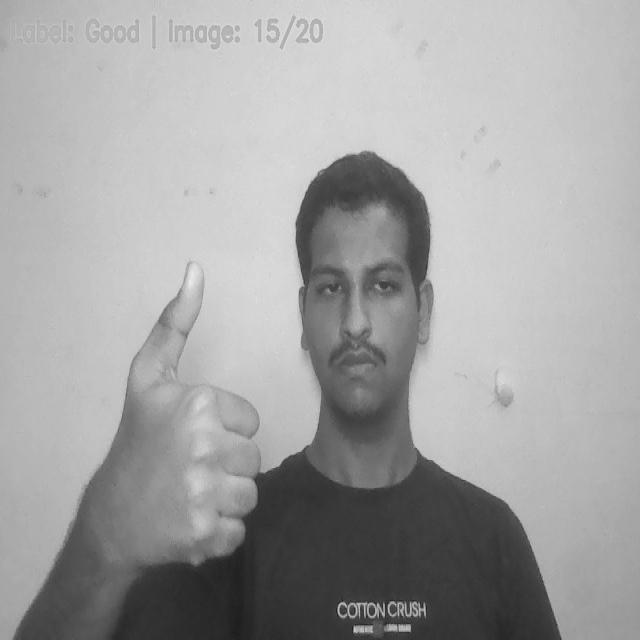Good: (104, 263, 264, 576)
